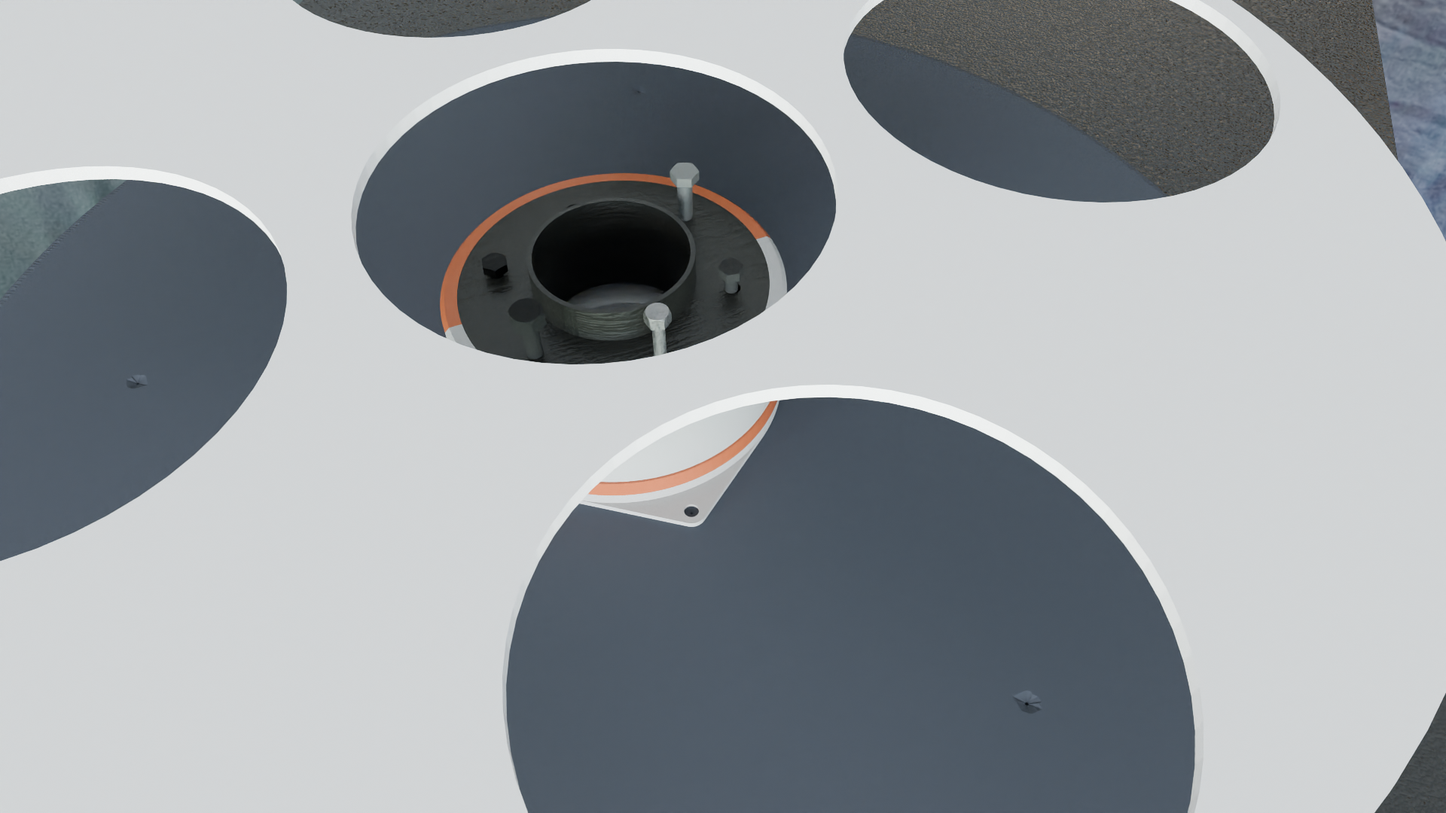bolt: (508, 298, 545, 326), (643, 303, 671, 322), (670, 163, 699, 180), (482, 252, 507, 271), (718, 259, 743, 276)
